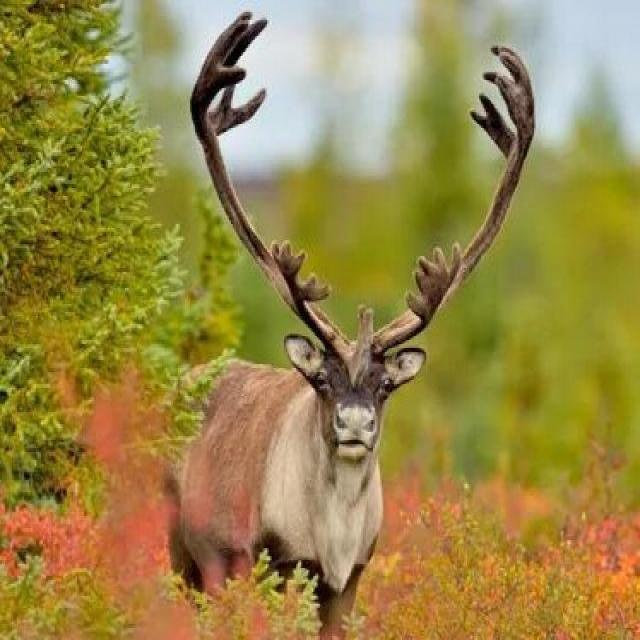deer: (108, 19, 562, 628)
